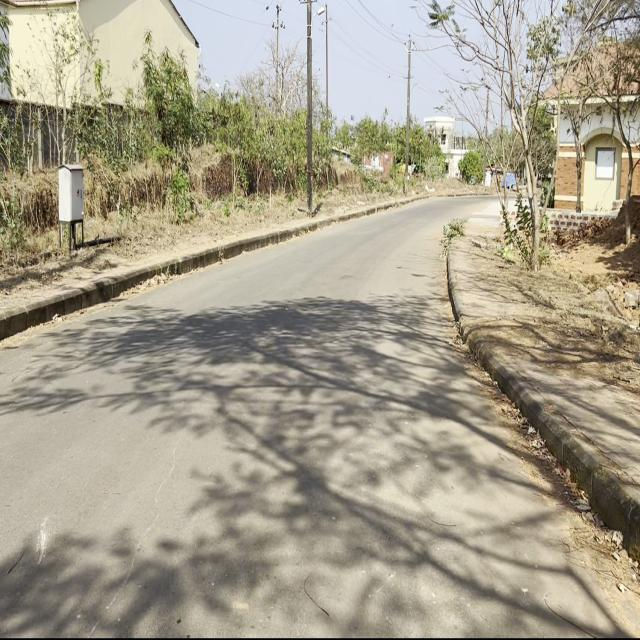Road: (3, 202, 637, 634)
